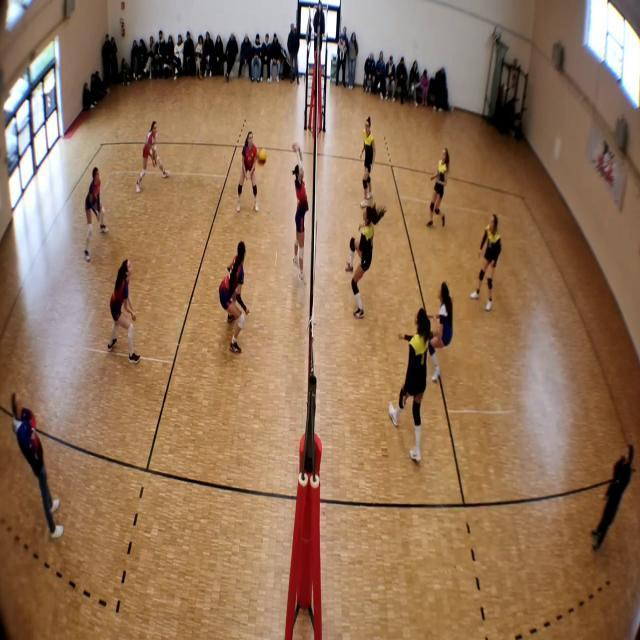volleyball: (256, 148, 268, 166)
